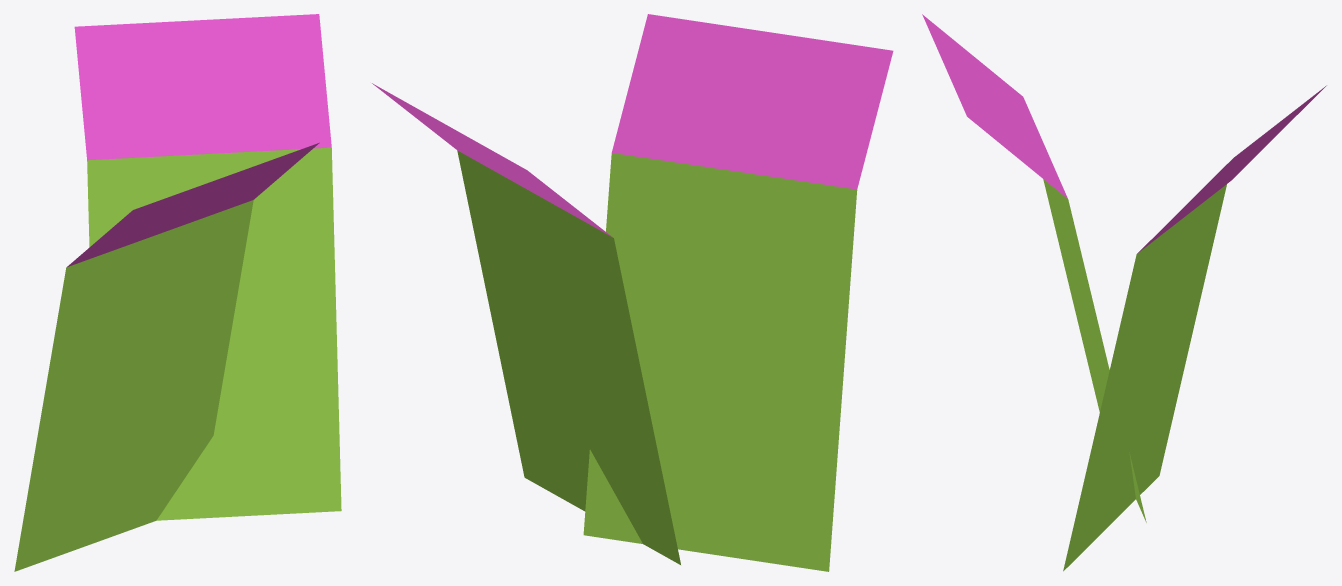
Rendered from flower1.fbx.
3 views of the same model, side by side, from view 1: azimuth 30°, elevation 25°; view 2: azimuth 150°, elevation 25°; view 3: azimuth 270°, elevation 25° (orthographic). The views are drawn at different scales.
Parts seen in each view (by area): view 1: flower; view 2: flower; view 3: flower.
Part boxes in pixels (x1,y1,x2,y2): flower: (14,14,341,571); flower: (372,14,893,571); flower: (922,14,1326,571).
Bounding box in the file's own units: 0.3001 × 0.3264 × 0.2849.
